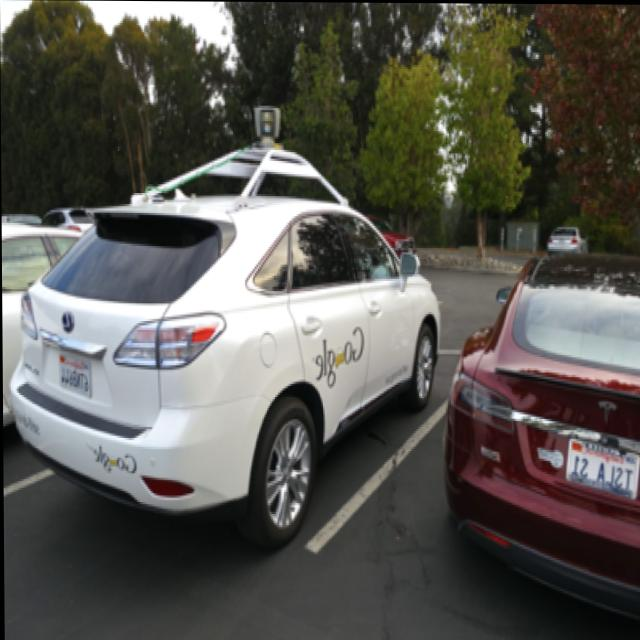licence: (572, 454, 639, 487), (60, 369, 92, 389)
